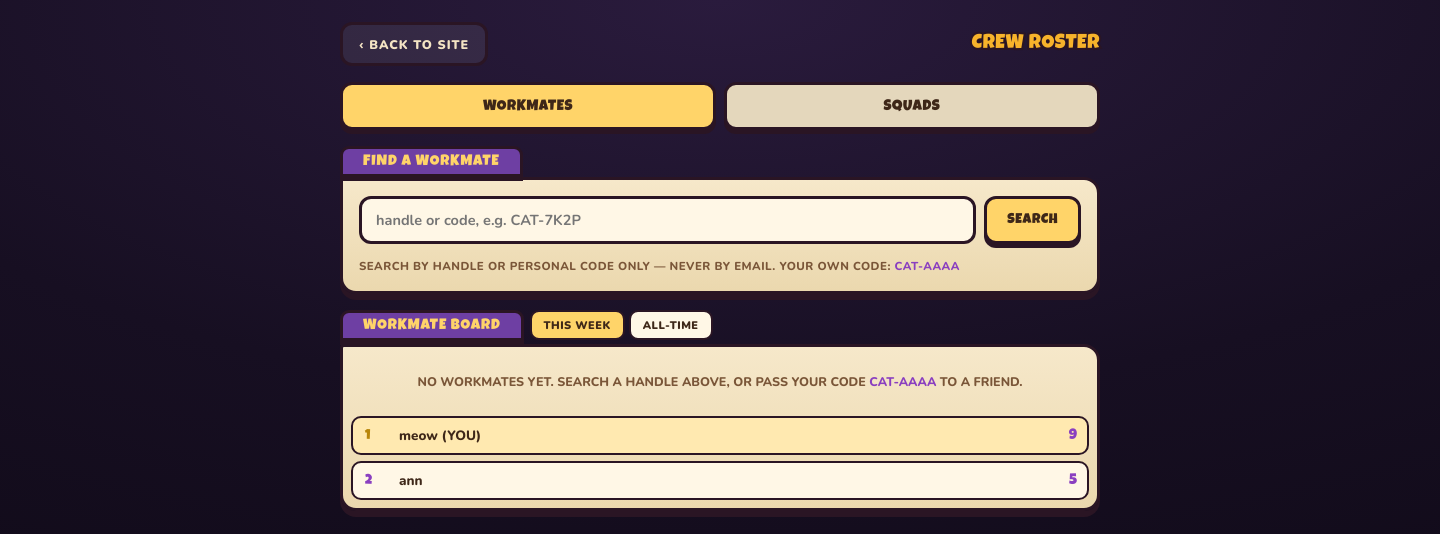
it: Squads › creates a squad and opens it with its invite code
Click the button "SQUADS" at (912, 106), box 724,82 -> 1100,130
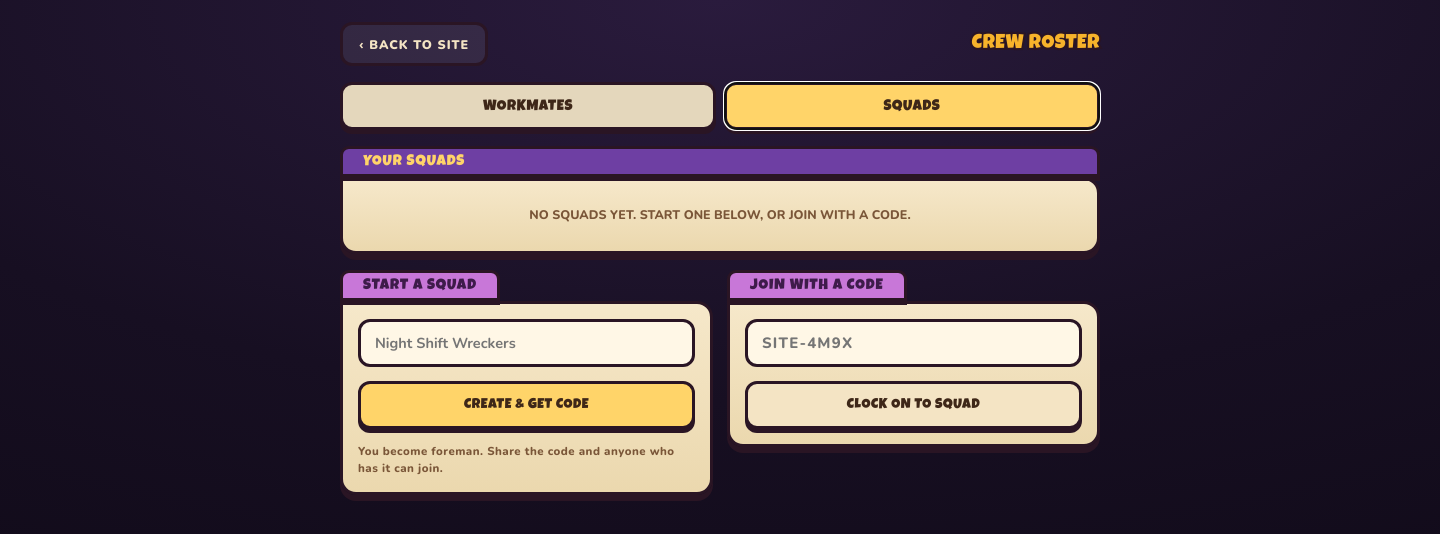
Type "Night Shift" into the field with placeholder "Night Shift Wreckers" at (526, 343), box 358,319 -> 695,367
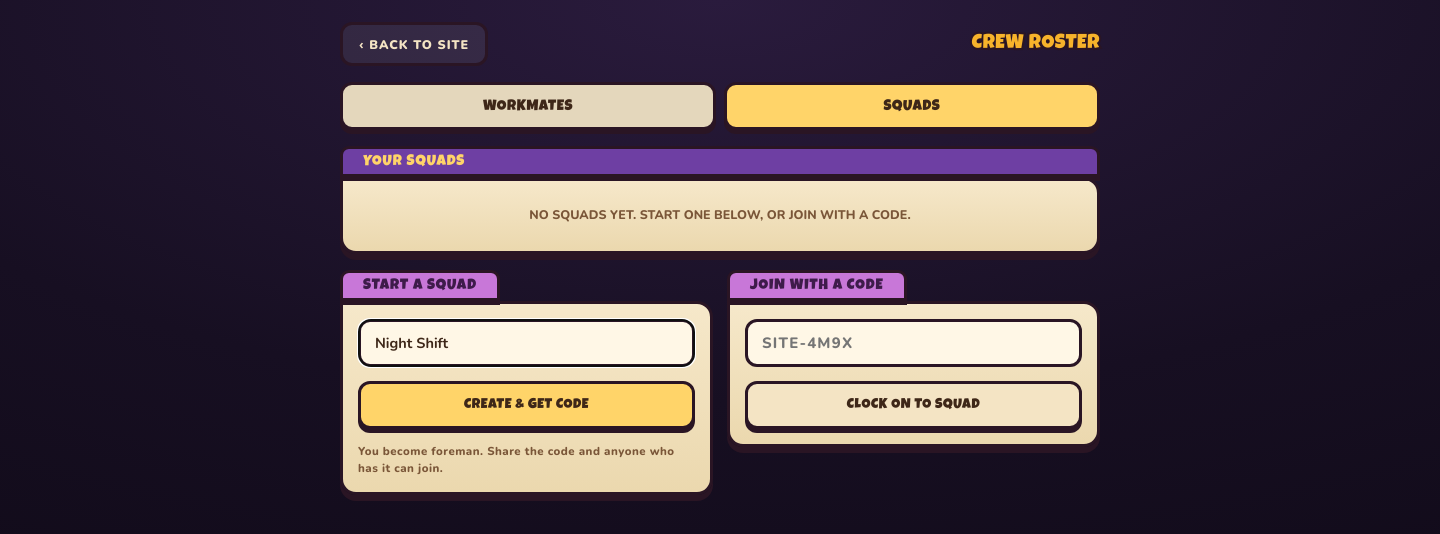
Click the button "CREATE & GET CODE" at (526, 405), box 358,381 -> 695,429
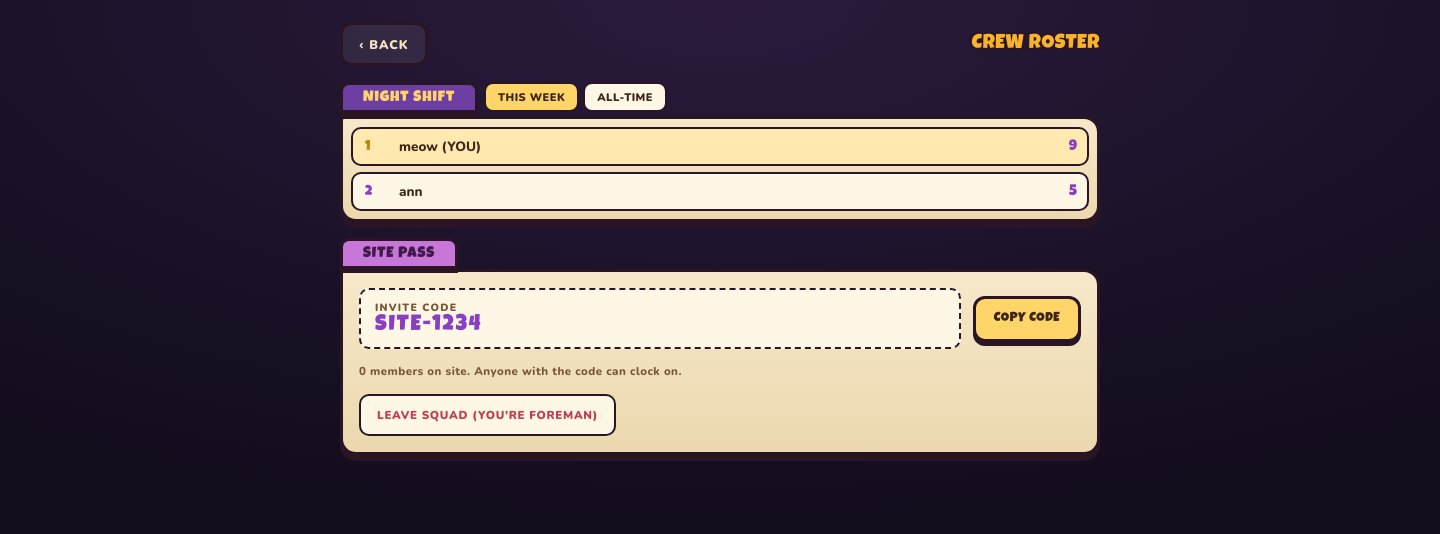
Expected: the text "SITE-1234" is shown, 375,315 -> 482,337
Expected: the button "LEAVE SQUAD (YOU’RE FOREMAN)" is shown, 359,394 -> 616,436
